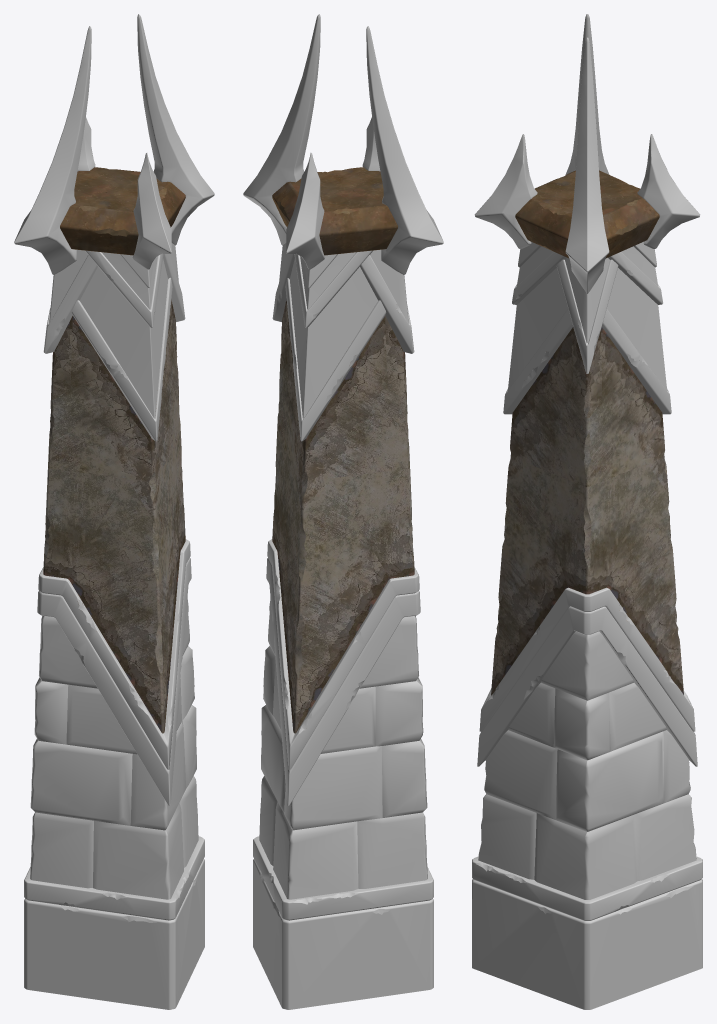
The picture shows the model from 3 angles, left to right: view 1: azimuth 30°, elevation 25°; view 2: azimuth 150°, elevation 25°; view 3: azimuth 270°, elevation 25°; orthographic projection.
Parts seen in each view (by area): view 1: SM_Fuzan_Arena_Wall_Turret_01_LOD0; view 2: SM_Fuzan_Arena_Wall_Turret_01_LOD0; view 3: SM_Fuzan_Arena_Wall_Turret_01_LOD0.
Part boxes in pixels (x1,y1,x2,y2): SM_Fuzan_Arena_Wall_Turret_01_LOD0: (14, 14, 214, 1009); SM_Fuzan_Arena_Wall_Turret_01_LOD0: (243, 14, 443, 1009); SM_Fuzan_Arena_Wall_Turret_01_LOD0: (472, 14, 702, 1009).
Size of the model in its own units: 4.26 by 19.27 by 4.29.
